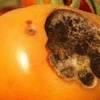tomato late blight: (1, 6, 100, 100), (1, 8, 100, 100)
